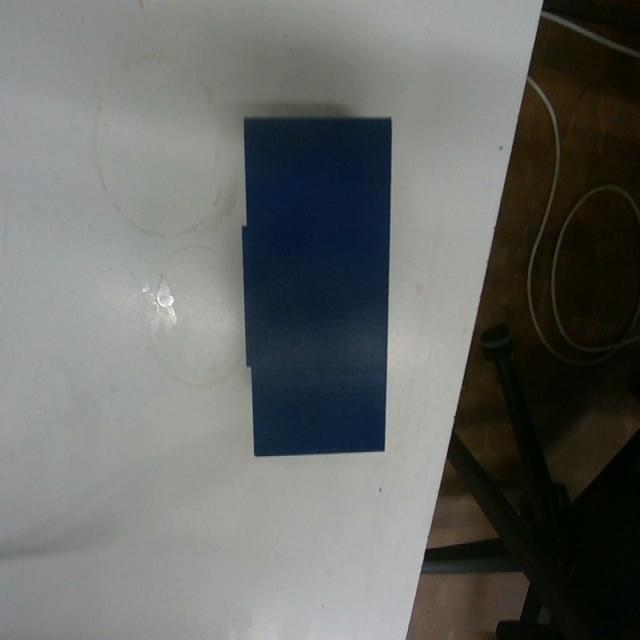Blue Cuboid: (239, 112, 392, 457)
